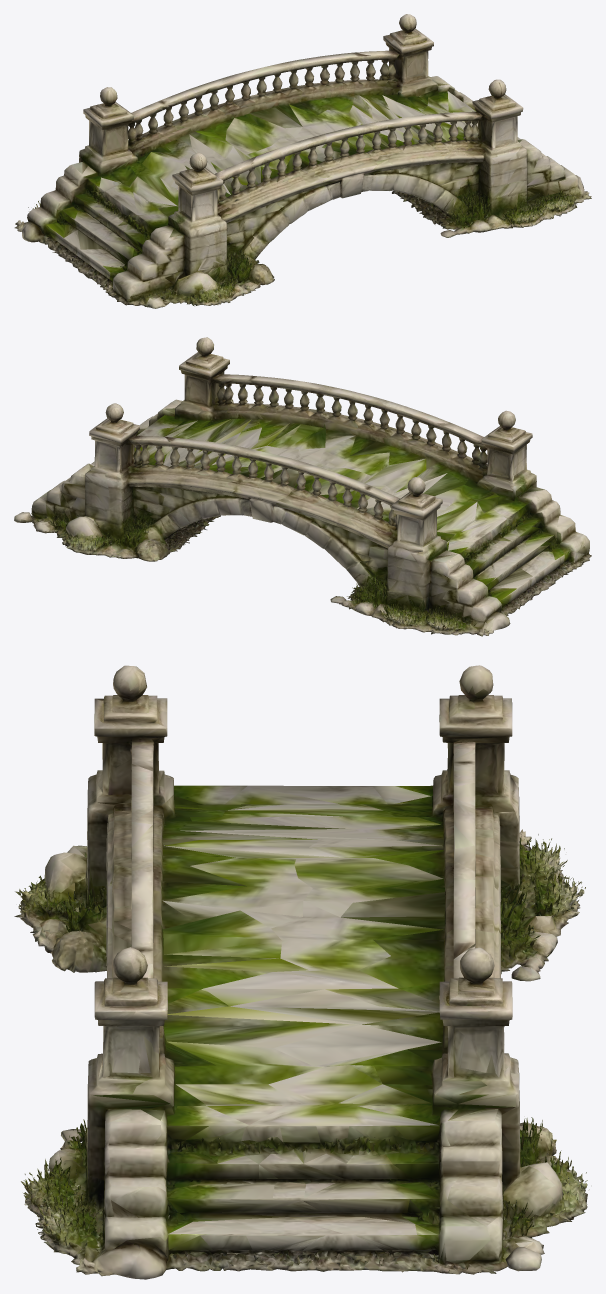
Rendered from Stone_Serenity_Bridge.glb.
3 renders of one model, top to bottom at view 1: azimuth 30°, elevation 25°; view 2: azimuth 150°, elevation 25°; view 3: azimuth 270°, elevation 25°, orthographic. The views are drawn at different scales.
Visible parts, largest first — view 1: Stone_Serenity_Bridge; view 2: Stone_Serenity_Bridge; view 3: Stone_Serenity_Bridge.
Boxes of the visible parts, x1,y1,x2,y2 form: Stone_Serenity_Bridge: [14, 14, 591, 308]; Stone_Serenity_Bridge: [14, 337, 591, 636]; Stone_Serenity_Bridge: [14, 665, 589, 1279].
Size of the model in its own units: 1.9 by 0.4932 by 1.04.
1 material, 1 textured.
